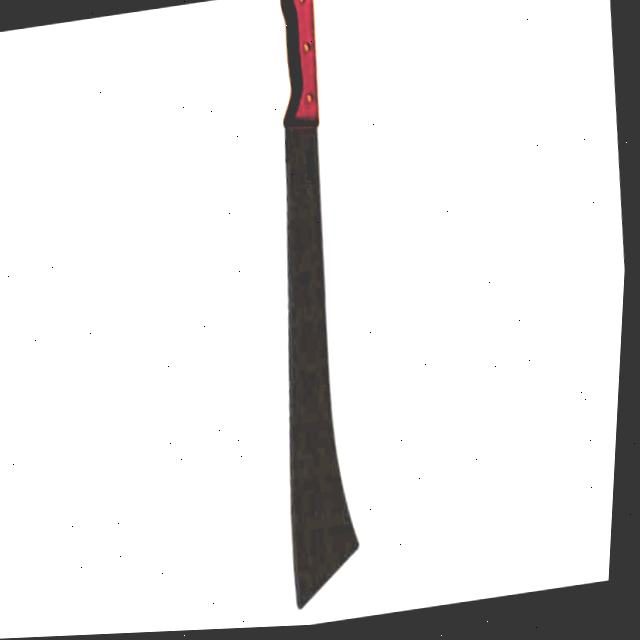long knife: (190, 0, 418, 618)
